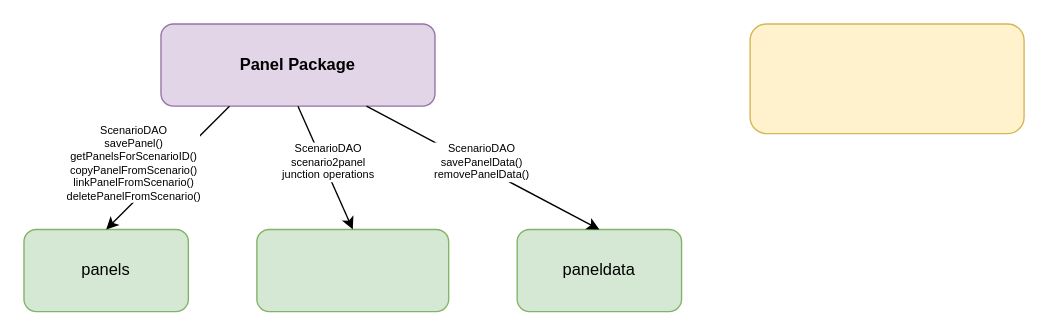
The diagram is 1048 pixels wide and 336 high, and some of its shapes have lost their labels. The centre of each missing label's shape, as x and y in pixels:
"Includes: • PanelActivity • PanelFragment • PVGISActivity (data import)" belongs at [886,78].
"scenario2panel" belongs at [352,270].
